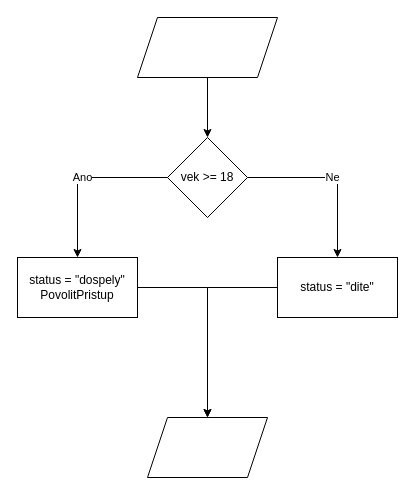
Image size: 415x495. Some labels were removed from this diagram. The shapes that lost their labels are listed below. From the top down, each one's centre as x and y in pixels, then its label:
[207,47]: Vstup vek, jmeno
[207,447]: status
